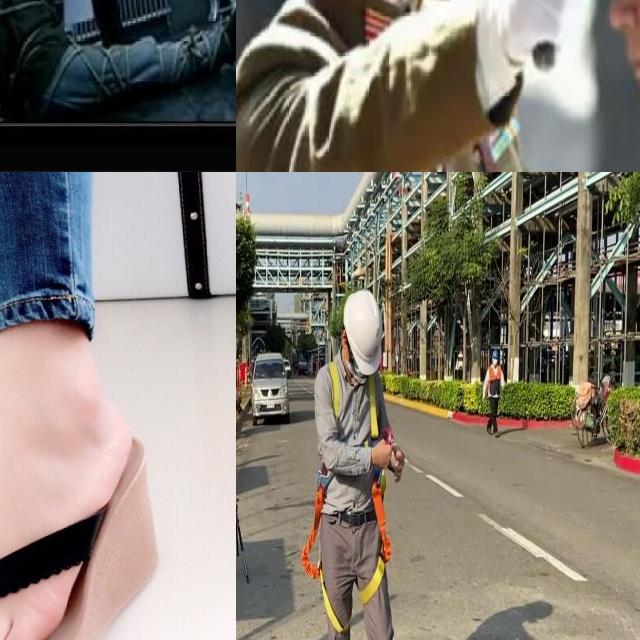Harness: (302, 475, 350, 634), (360, 476, 392, 606)
Sandals: (0, 319, 172, 640)
face_nomask: (597, 0, 640, 96)
hand_glove: (504, 0, 577, 50)
person: (236, 0, 557, 172), (531, 0, 640, 172)
